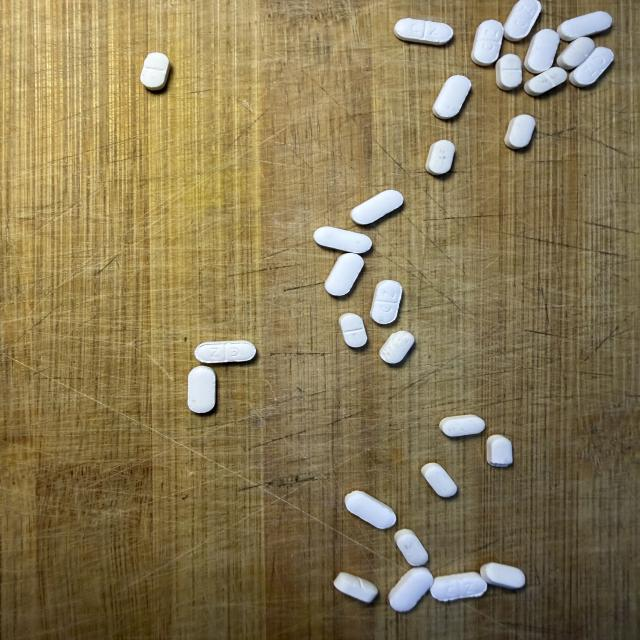pill: (345, 491, 396, 529), (389, 567, 433, 611), (351, 190, 403, 224), (570, 47, 613, 87), (433, 75, 471, 119), (558, 11, 612, 41), (325, 254, 363, 296), (431, 572, 486, 601), (394, 18, 453, 45), (524, 29, 559, 74), (504, 0, 541, 41), (314, 227, 372, 253), (472, 20, 503, 66), (370, 280, 402, 324), (556, 36, 596, 70), (195, 341, 256, 363), (334, 572, 378, 602), (188, 366, 216, 413), (421, 463, 457, 497), (395, 529, 428, 566), (525, 67, 567, 96), (480, 563, 525, 589), (380, 331, 414, 363), (141, 53, 169, 90), (505, 115, 535, 149), (426, 140, 455, 175), (439, 415, 485, 437), (339, 313, 367, 347), (496, 54, 522, 90), (487, 435, 513, 467)
